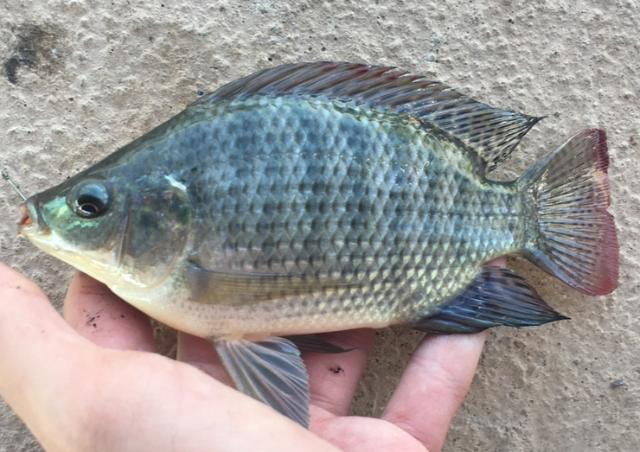Mulut: (1, 185, 66, 265)
Sirip Anal: (413, 254, 575, 338)
Sirip Dada: (167, 249, 375, 313)
Sirip Ekor: (513, 121, 631, 301)
Sirip Perut: (214, 322, 358, 430)
Sirip Punggung: (203, 52, 551, 176)
